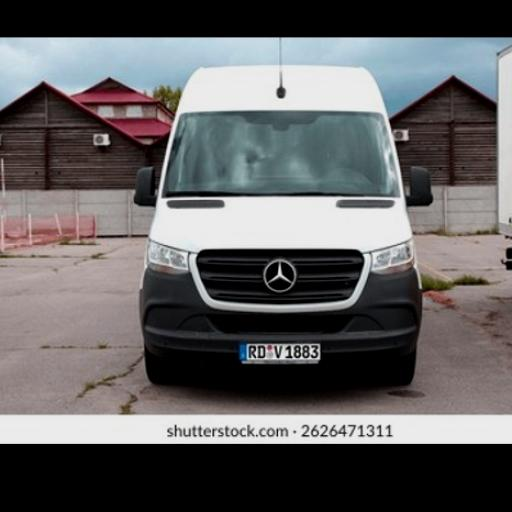truck: (495, 35, 512, 303)
van: (132, 62, 436, 387)
